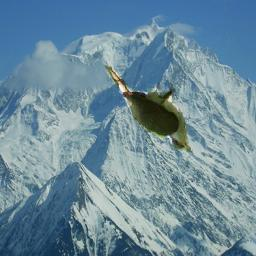Cuckoo: (105, 65, 193, 151)
